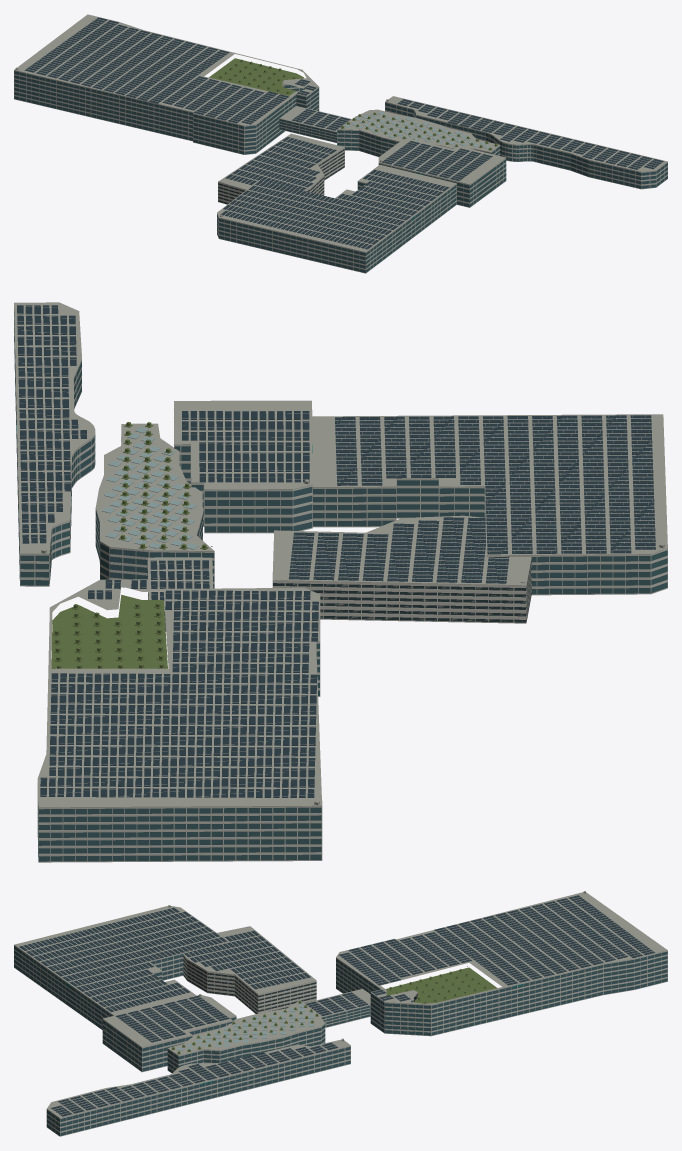
The model's file is 1-Utama-Shopping-Centre.glb.
The picture shows the model from 3 angles, top to bottom: view 1: azimuth 30°, elevation 25°; view 2: azimuth 150°, elevation 25°; view 3: azimuth 270°, elevation 25°; orthographic projection. The views are drawn at different scales.
Parts seen in each view (by area): view 1: 1 Utama — New Wing — reviewed exterior, 1 Utama — Old Wing west retail — reviewed exterior, 1 Utama E — entertainment extension — reviewed exterior, 1 Utama Old Wing - AEON parking block — reviewed exterior, 1 Utama — Old Wing east retail — reviewed exterior, 1 Utama Old Wing - central retail and atrium — reviewed exte, 1 Utama — Secret Garden roof terrace — reviewed exterior, 1 Utama — elevated Old / New Wing connection — reviewed exte; view 2: 1 Utama — New Wing — reviewed exterior, 1 Utama — Old Wing west retail — reviewed exterior, 1 Utama Old Wing - AEON parking block — reviewed exterior, 1 Utama E — entertainment extension — reviewed exterior, 1 Utama — Old Wing east retail — reviewed exterior, 1 Utama Old Wing - central retail and atrium — reviewed exte, 1 Utama — Secret Garden roof terrace — reviewed exterior, 1 Utama — elevated Old / New Wing connection — reviewed exte; view 3: 1 Utama — New Wing — reviewed exterior, 1 Utama — Old Wing west retail — reviewed exterior, 1 Utama E — entertainment extension — reviewed exterior, 1 Utama Old Wing - AEON parking block — reviewed exterior, 1 Utama — Old Wing east retail — reviewed exterior, 1 Utama Old Wing - central retail and atrium — reviewed exte, 1 Utama — Secret Garden roof terrace — reviewed exterior, 1 Utama — elevated Old / New Wing connection — reviewed exte.
Boxes of the visible parts, x1,y1,x2,y2 form: 1 Utama — New Wing — reviewed exterior: [14, 14, 319, 154]; 1 Utama — Old Wing west retail — reviewed exterior: [217, 165, 456, 273]; 1 Utama E — entertainment extension — reviewed exterior: [385, 96, 667, 189]; 1 Utama Old Wing - AEON parking block — reviewed exterior: [218, 133, 344, 204]; 1 Utama — Old Wing east retail — reviewed exterior: [378, 139, 506, 207]; 1 Utama Old Wing - central retail and atrium — reviewed exte: [337, 109, 500, 156]; 1 Utama — Secret Garden roof terrace — reviewed exterior: [209, 58, 305, 95]; 1 Utama — elevated Old / New Wing connection — reviewed exte: [279, 106, 351, 142]; 1 Utama — New Wing — reviewed exterior: [37, 579, 322, 862]; 1 Utama — Old Wing west retail — reviewed exterior: [312, 414, 667, 595]; 1 Utama Old Wing - AEON parking block — reviewed exterior: [272, 515, 531, 623]; 1 Utama E — entertainment extension — reviewed exterior: [14, 302, 95, 586]; 1 Utama — Old Wing east retail — reviewed exterior: [174, 400, 312, 533]; 1 Utama Old Wing - central retail and atrium — reviewed exte: [95, 422, 214, 588]; 1 Utama — Secret Garden roof terrace — reviewed exterior: [51, 594, 167, 668]; 1 Utama — elevated Old / New Wing connection — reviewed exte: [147, 557, 213, 631]; 1 Utama — New Wing — reviewed exterior: [336, 891, 667, 1036]; 1 Utama — Old Wing west retail — reviewed exterior: [14, 905, 228, 1029]; 1 Utama E — entertainment extension — reviewed exterior: [46, 1038, 350, 1136]; 1 Utama Old Wing - AEON parking block — reviewed exterior: [183, 926, 316, 1013]; 1 Utama — Old Wing east retail — reviewed exterior: [102, 994, 236, 1072]; 1 Utama Old Wing - central retail and atrium — reviewed exte: [167, 999, 325, 1073]; 1 Utama — Secret Garden roof terrace — reviewed exterior: [386, 966, 497, 1003]; 1 Utama — elevated Old / New Wing connection — reviewed exte: [305, 988, 370, 1027].
Bounding box in the file's own units: 432 × 31 × 559.
